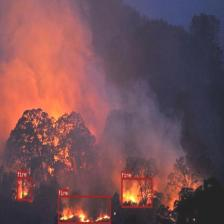fire: (58, 195, 111, 224), (121, 178, 152, 208), (17, 176, 32, 200)
